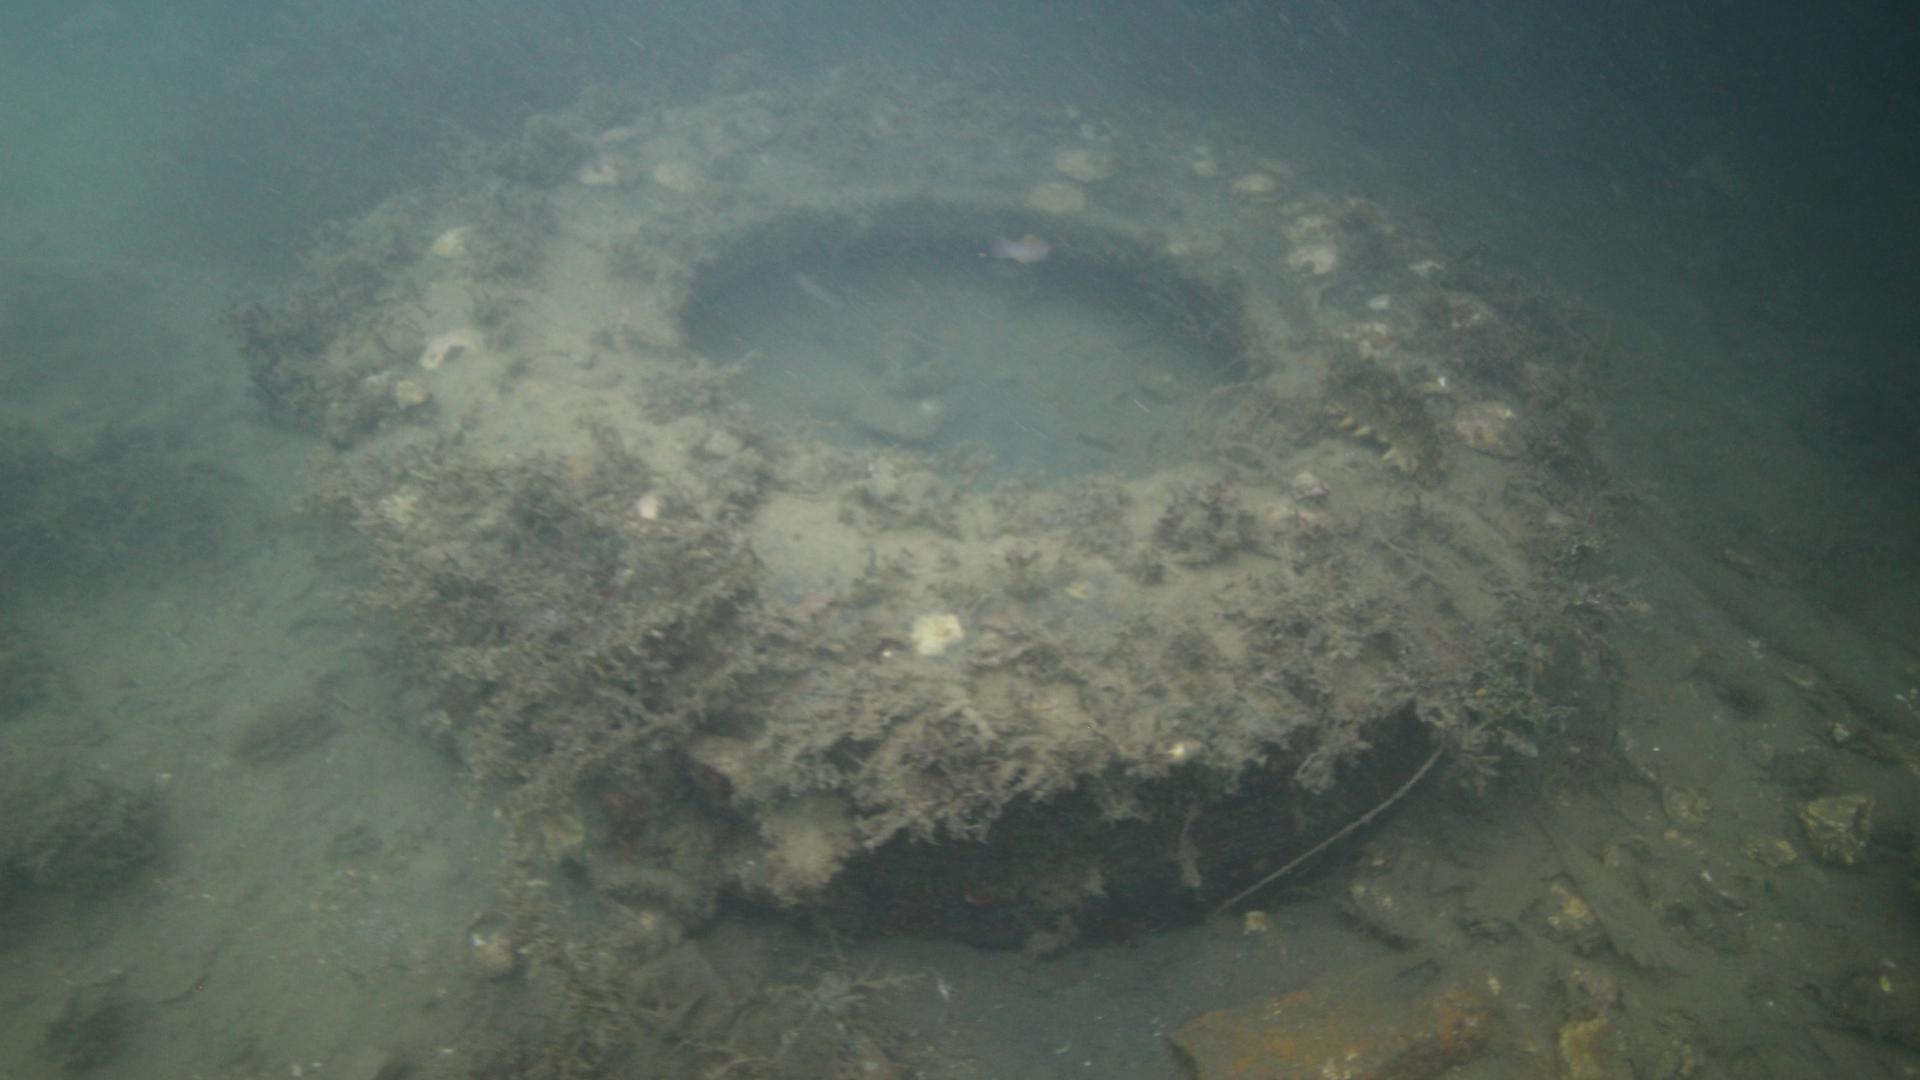tire: (351, 76, 1560, 938)
